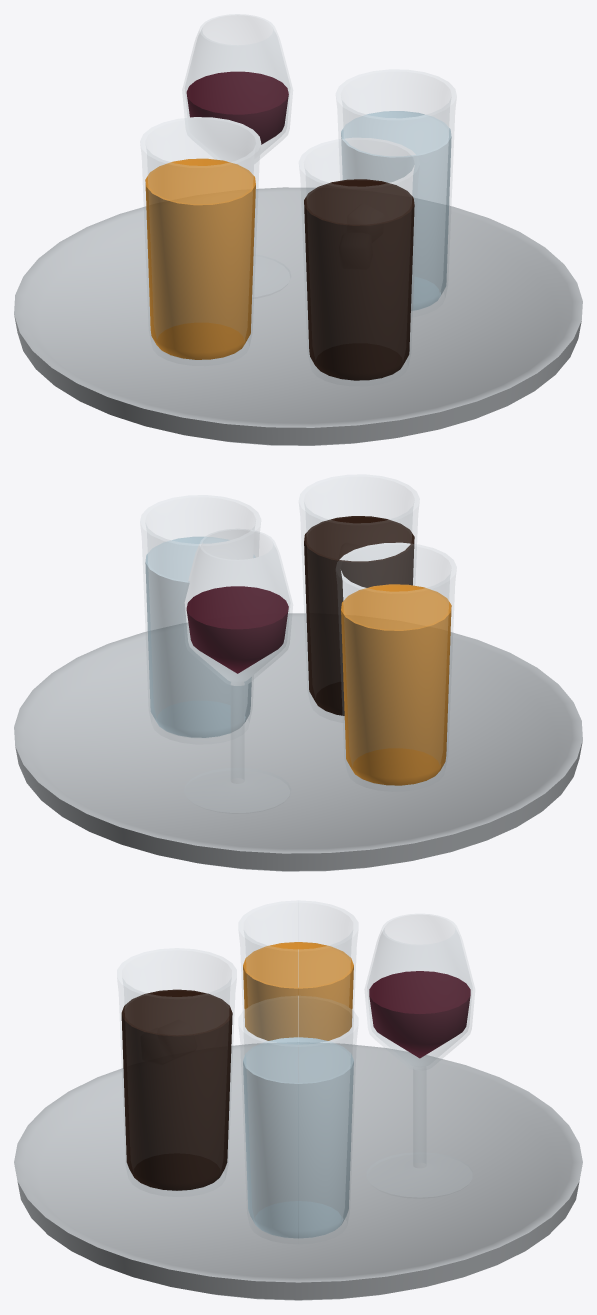
The model's file is tray_drinks_tray_round.glb.
The picture shows the model from 3 angles, top to bottom: view 1: azimuth 30°, elevation 25°; view 2: azimuth 150°, elevation 25°; view 3: azimuth 270°, elevation 25°; orthographic projection.
Parts seen in each view (by area): view 1: tray_drinks_tray_round; view 2: tray_drinks_tray_round; view 3: tray_drinks_tray_round.
Boxes of the visible parts, box(x1,y1,x2,y2) form: tray_drinks_tray_round: box(14, 14, 582, 445); tray_drinks_tray_round: box(14, 475, 582, 871); tray_drinks_tray_round: box(14, 901, 582, 1300).
Size of the model in its own units: 0.328 by 0.166 by 0.328.
